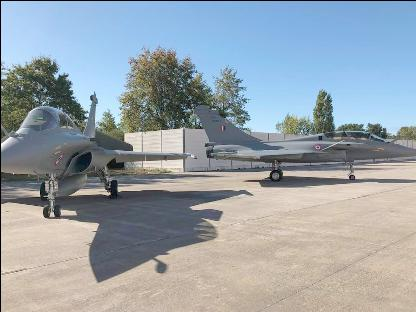RQ4: (1, 88, 197, 218), (192, 104, 414, 180)
